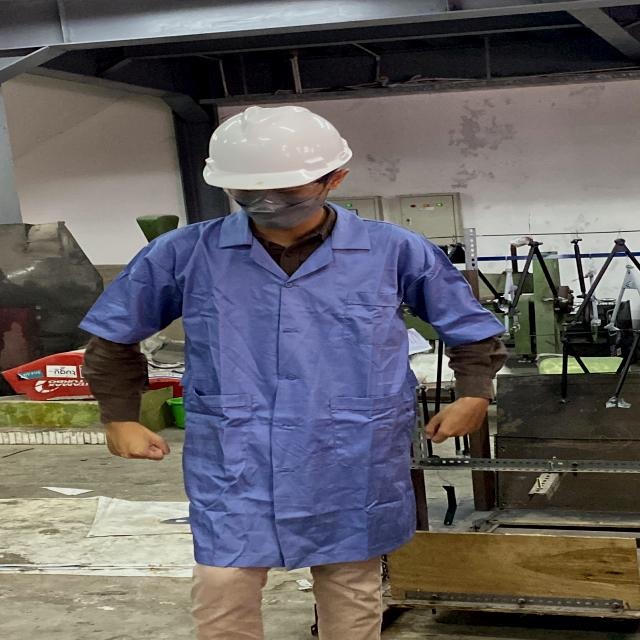face_mask: (220, 179, 323, 228)
glasses: (219, 174, 338, 205)
hand_noglove: (87, 420, 178, 468), (410, 400, 494, 443)
head_helmet: (192, 102, 352, 186)
person: (73, 98, 530, 640)
